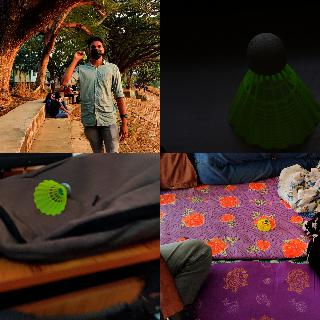shuttlecock: (228, 34, 320, 148), (32, 180, 70, 214), (257, 217, 271, 231), (82, 50, 86, 60)
